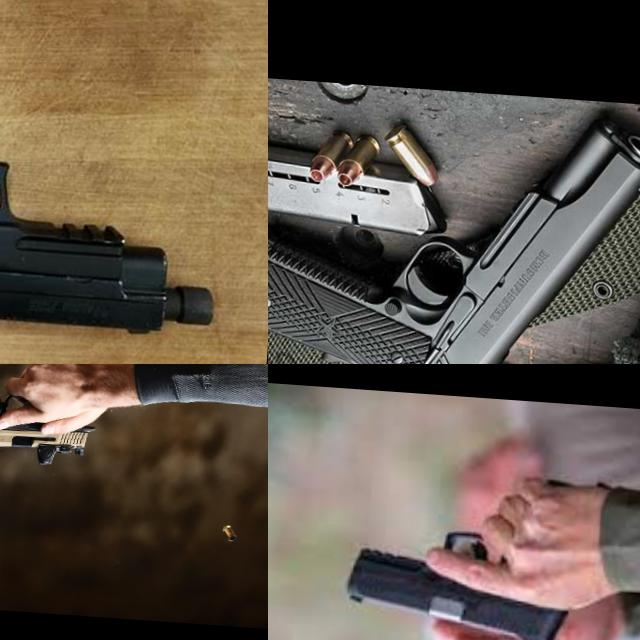handgun: (268, 88, 640, 364), (0, 0, 264, 346), (338, 519, 576, 640), (0, 383, 98, 469)
